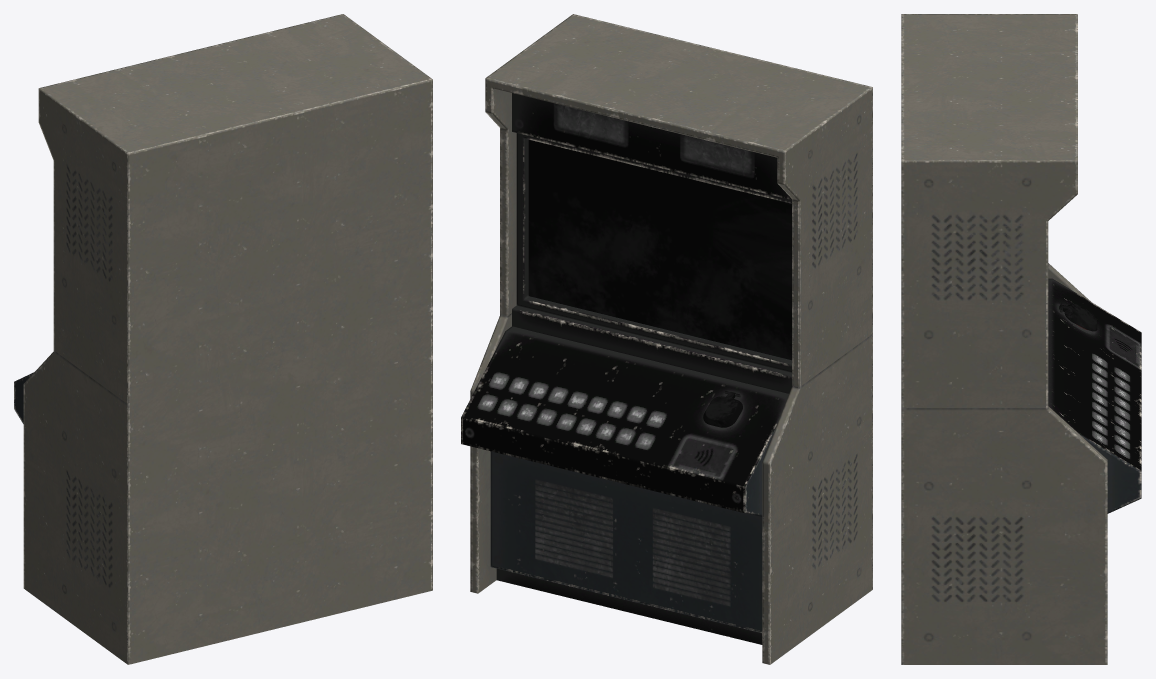
File: Panel3.fbx
3 views of the same model, side by side, from view 1: azimuth 30°, elevation 25°; view 2: azimuth 150°, elevation 25°; view 3: azimuth 270°, elevation 25° (orthographic).
Parts seen in each view (by area): view 1: Panel3; view 2: Panel3, ButtonCover; view 3: Panel3, ButtonCover.
Part boxes in pixels (left/top/right/bottom): Panel3: left=14, top=14, right=432, bottom=664; Panel3: left=461, top=14, right=872, bottom=664; ButtonCover: left=703, top=391, right=742, bottom=427; Panel3: left=901, top=14, right=1141, bottom=664; ButtonCover: left=1059, top=302, right=1097, bottom=331.
Size of the model in its own units: 1.92 by 3.07 by 1.33.
3 materials, 3 textured.
